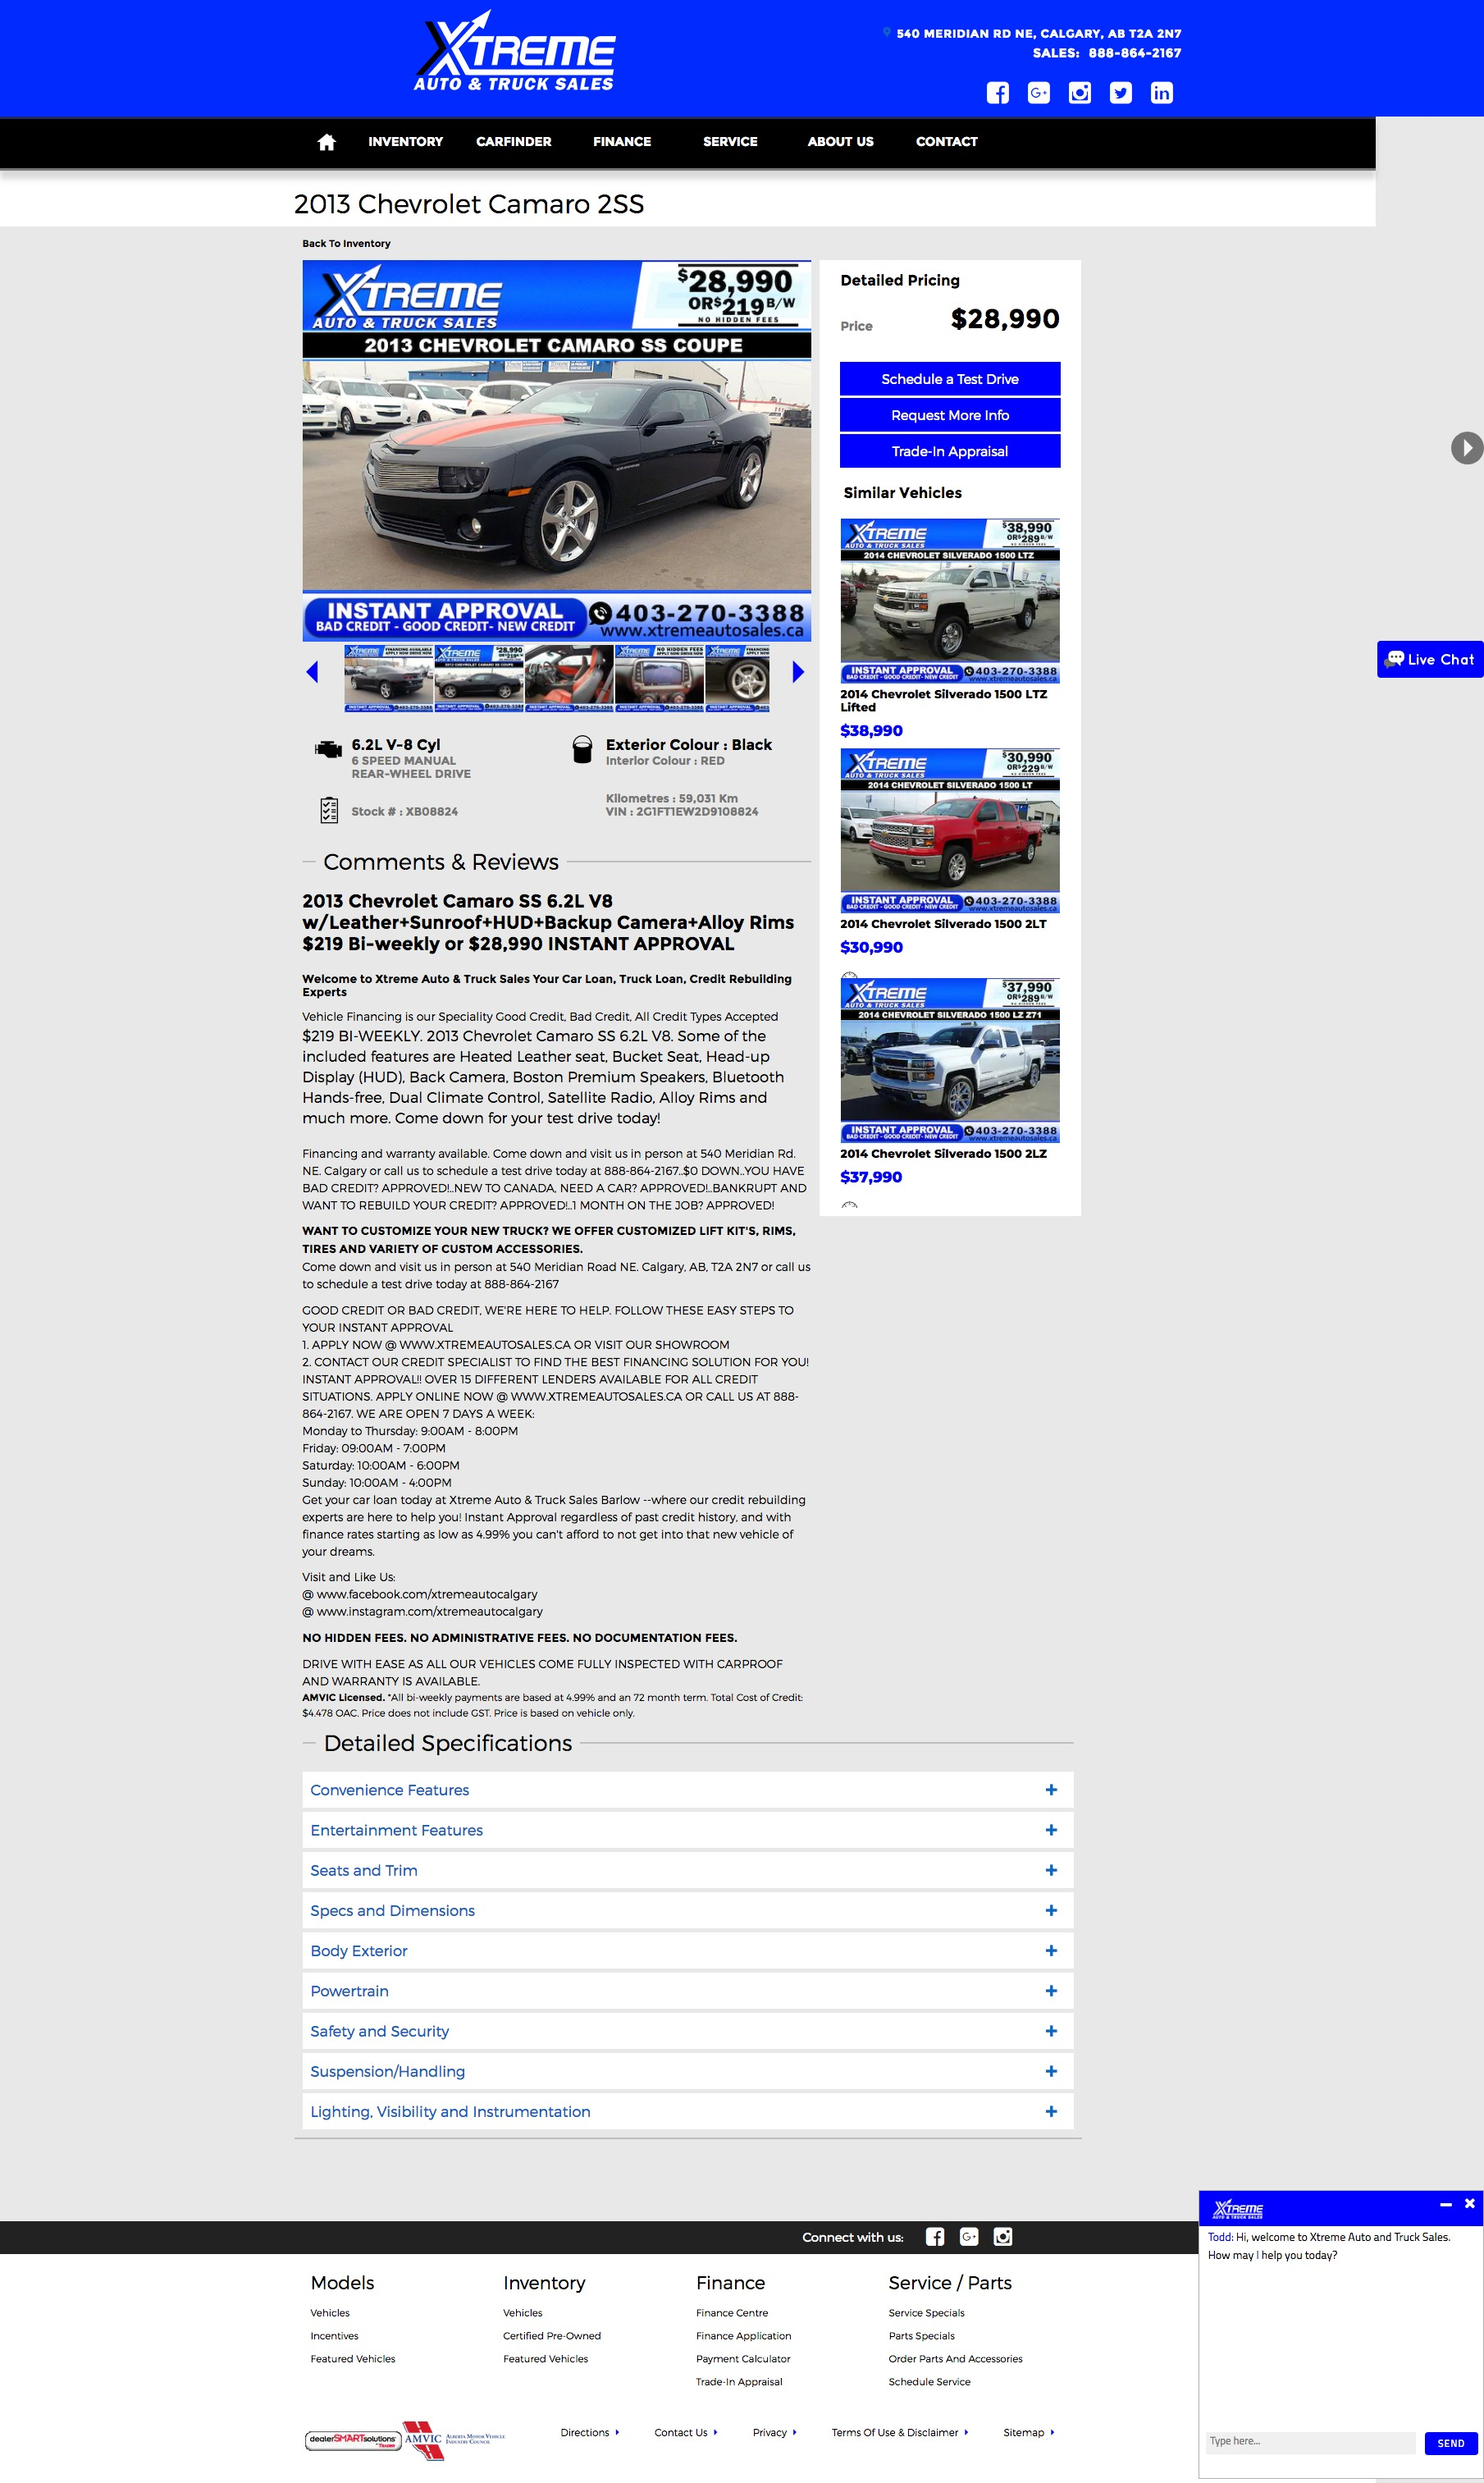car: (793, 661, 806, 684)
